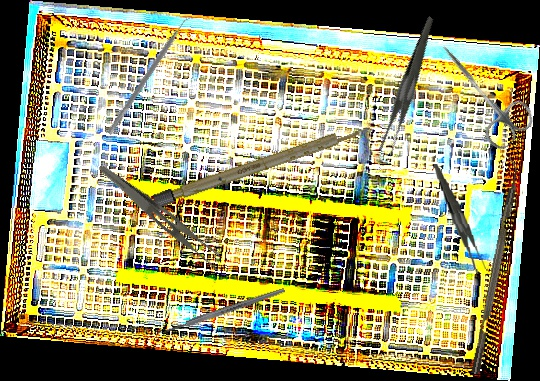Chopper: (460, 156, 525, 375)
Dressing Forceps: (346, 16, 473, 158), (88, 163, 231, 274), (434, 160, 487, 277)
Iris Scissors: (422, 30, 539, 155)
Scalpel Handle: (152, 123, 364, 209), (165, 286, 286, 335)
Spatula Surgical: (106, 11, 196, 139)
